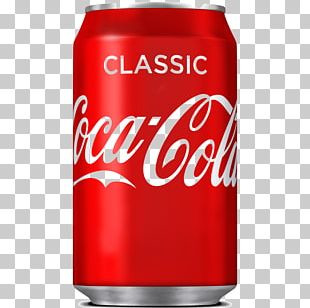coke: (74, 3, 236, 308)
